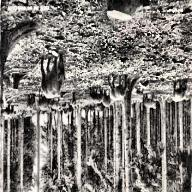boar: (35, 49, 80, 106), (108, 72, 134, 102), (170, 80, 191, 110), (145, 89, 160, 111), (90, 90, 102, 105), (103, 97, 110, 113)
